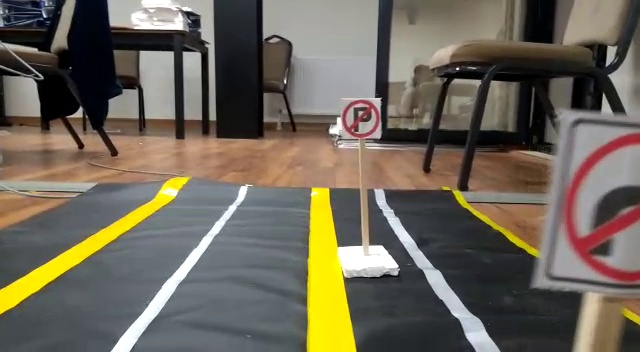park_yapilmaz: (342, 99, 383, 139)
saga_donulmez: (552, 115, 640, 285)
